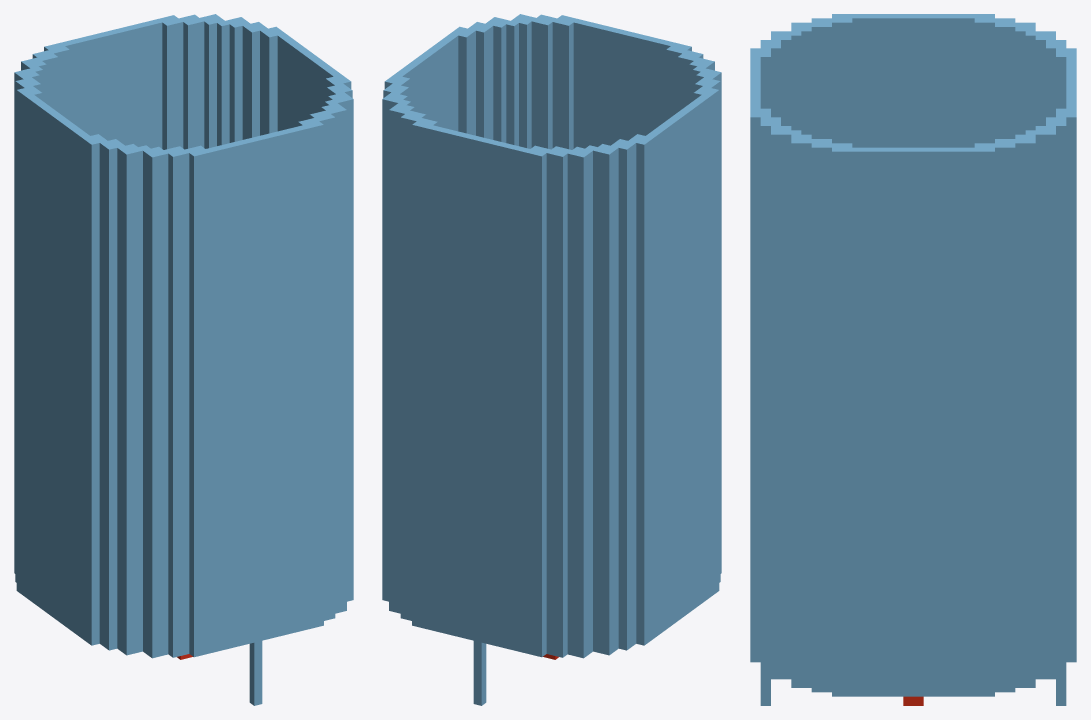
File: HumanTube_02.obj
3 renders of one model, left to right at view 1: azimuth 30°, elevation 25°; view 2: azimuth 150°, elevation 25°; view 3: azimuth 270°, elevation 25°, orthographic. The views are drawn at different scales.
Size of the model in its own units: 32 by 67 by 32.
Materials: 1 (1 with a texture image).
